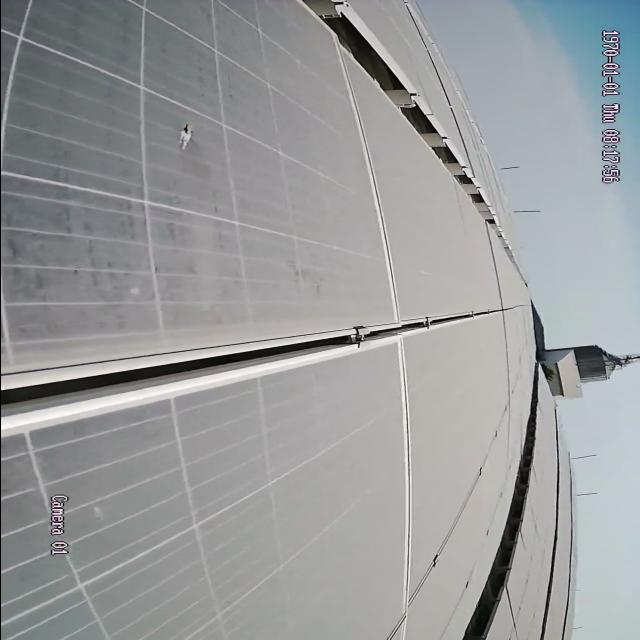interior panel: (3, 304, 516, 433), (334, 51, 400, 312), (394, 344, 409, 638)
outher panel: (289, 0, 518, 262), (450, 393, 538, 635)
